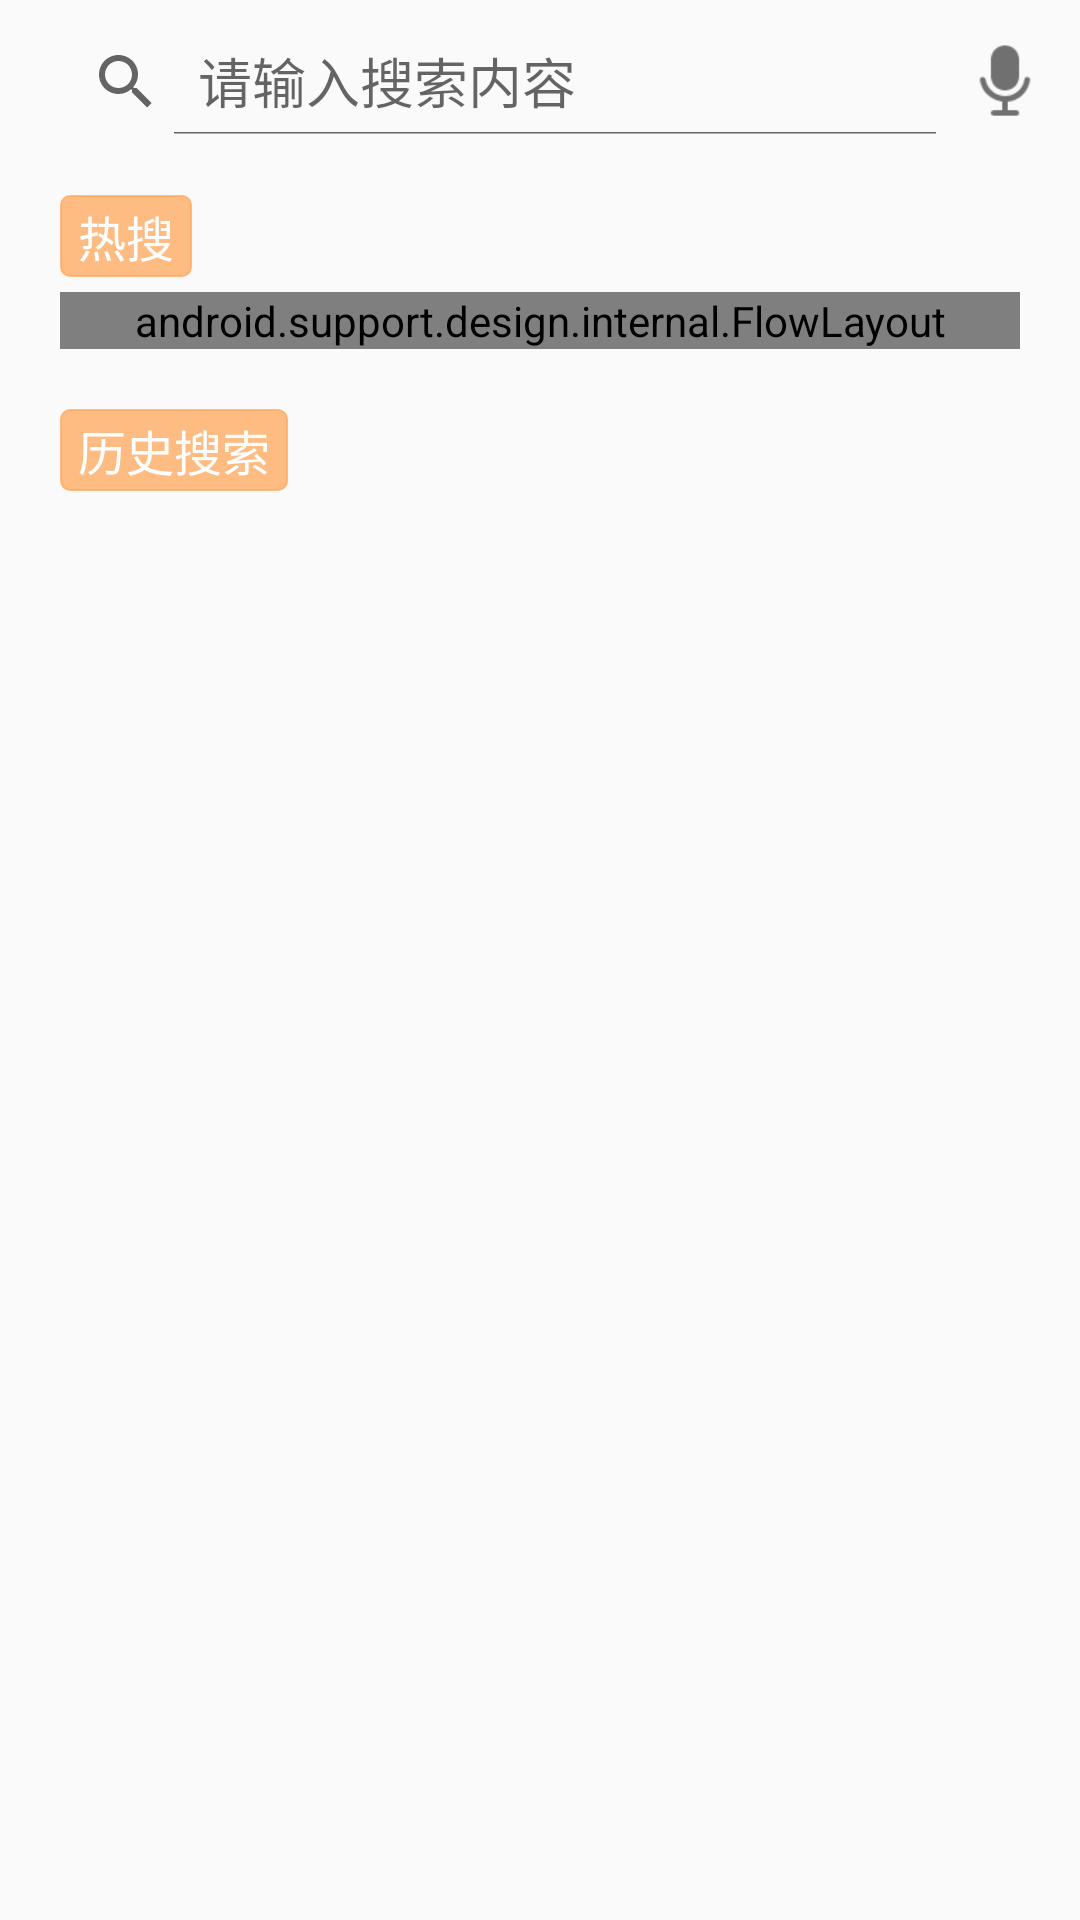

Where to tap for icons on this 1080px x 1920px app screen, as [x,y]:
recorder: [1005,80]
